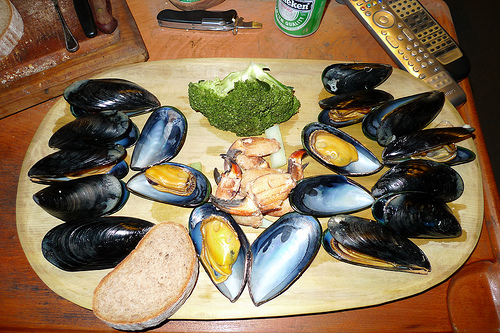broccoli: (191, 77, 298, 138)
